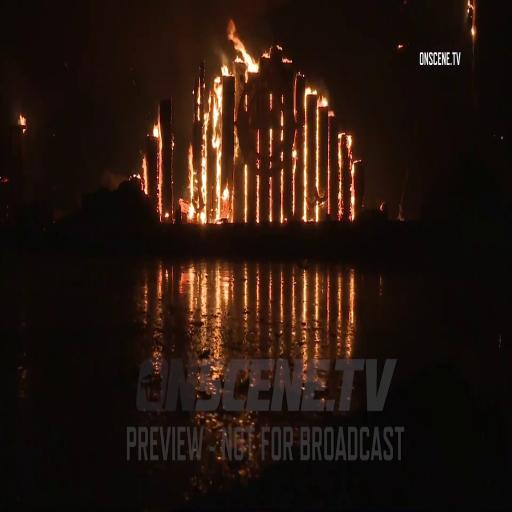fire: (311, 102, 354, 232), (199, 91, 226, 225)
